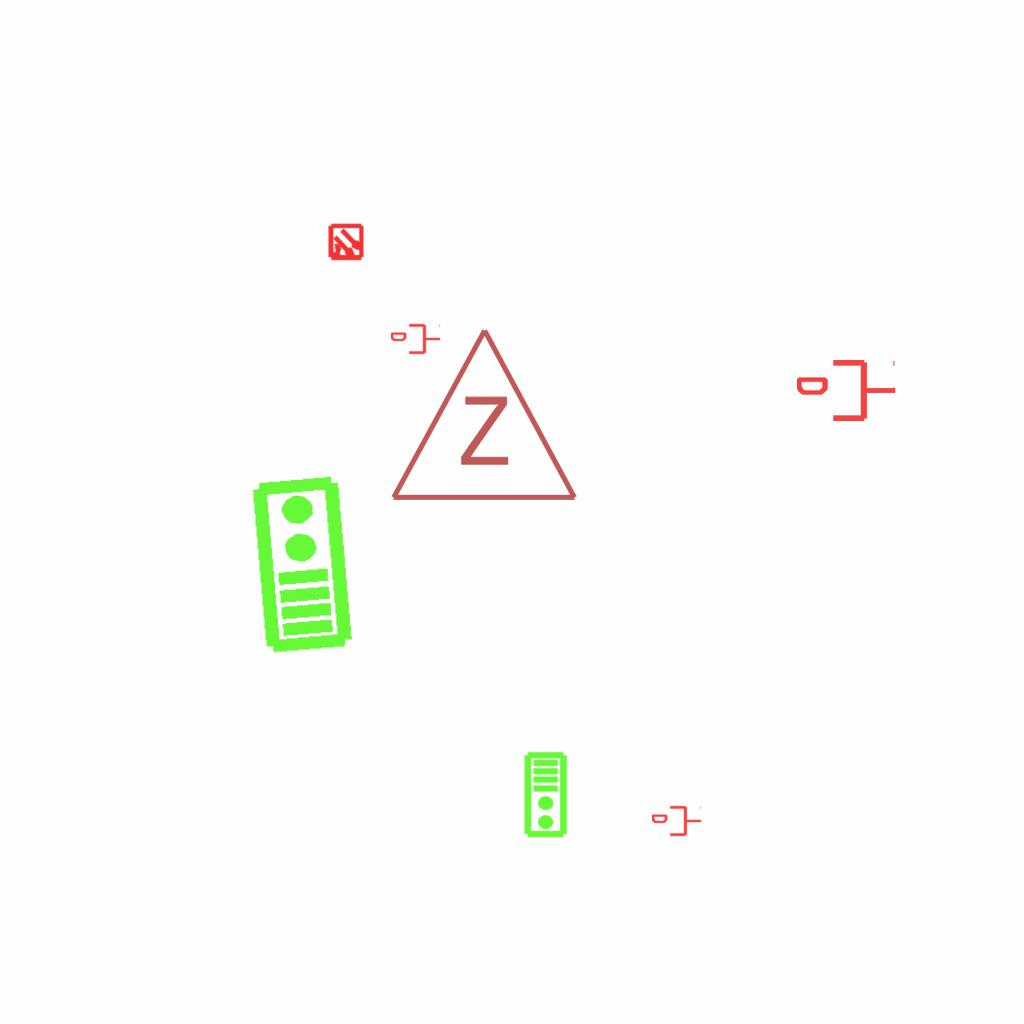Datenanschluss_einfach: (797, 356, 897, 425), (652, 804, 702, 838), (391, 322, 441, 356)
Gegensprechanlage_mit_Video: (245, 472, 356, 656), (523, 751, 570, 839)
OT_Multisensormelder_(Kombination_RMO_WMD): (318, 215, 374, 271)
Zimmersignalleuchte: (384, 315, 580, 515)
